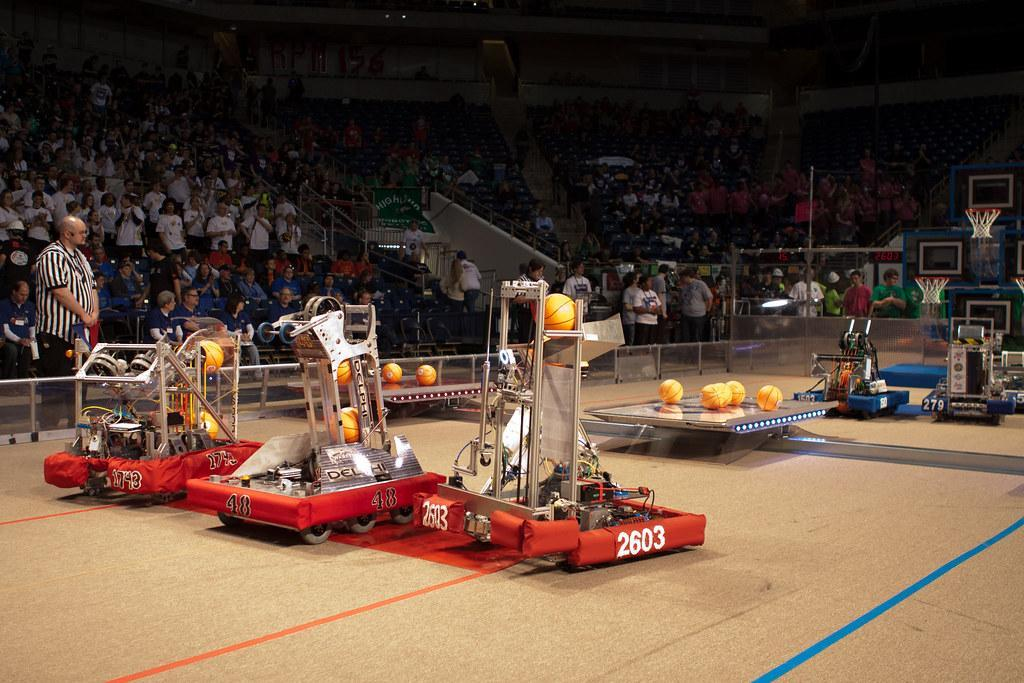robot: (412, 256, 715, 577), (185, 286, 456, 557), (40, 290, 290, 512), (919, 290, 1023, 436), (792, 314, 916, 427)
